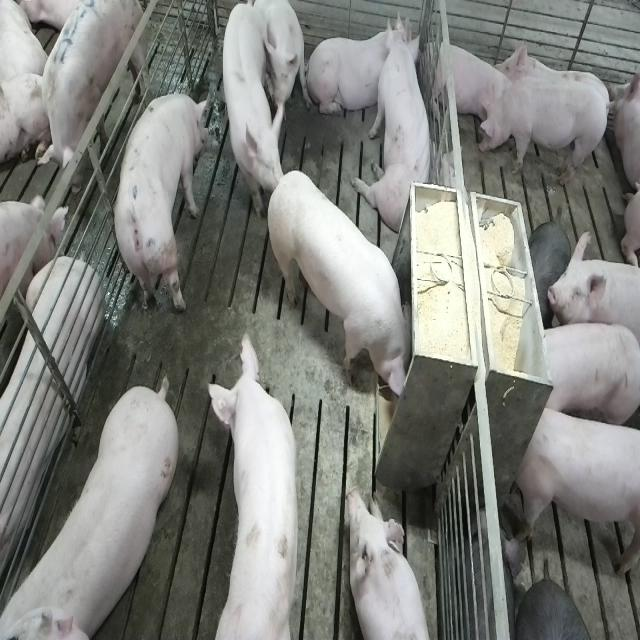Feeding: (271, 168, 421, 404)
Lateral_lying: (0, 251, 101, 588)
Sitting: (357, 13, 436, 234), (248, 1, 304, 130)
Standing: (5, 372, 184, 635), (207, 322, 304, 636), (32, 0, 145, 196), (514, 400, 638, 578), (115, 89, 207, 322), (477, 81, 613, 188), (548, 230, 640, 388), (218, 0, 282, 225), (538, 322, 639, 426)
Sternal_lying: (346, 486, 432, 640), (308, 18, 411, 123), (428, 35, 509, 131)
